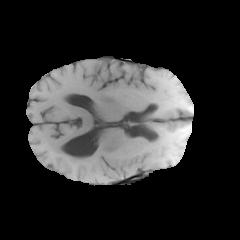glioma: (51, 122, 189, 181)
